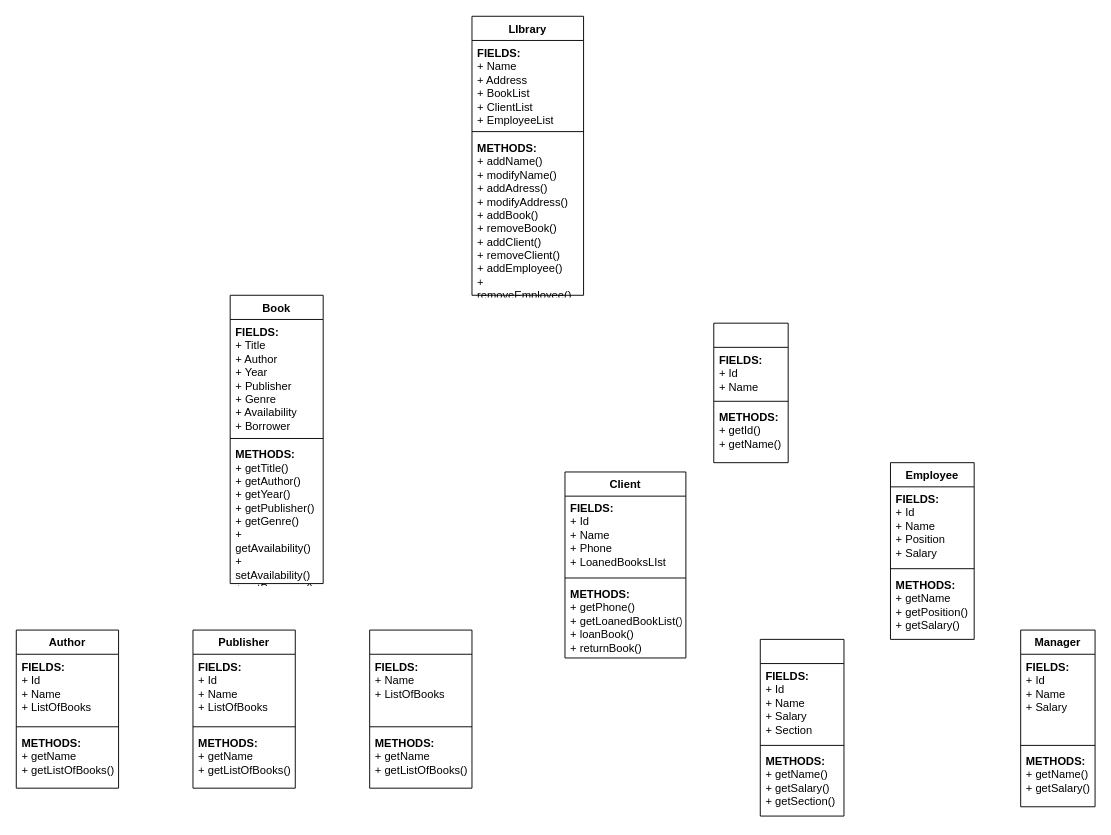
Image size: 1111x835. Some labels were removed from this diagram. The shapes that lost their labels are listed below. From the top down, each one's box as (x1, y1, x2, y2) in pixels, then its label:
(713, 322, 788, 463): Person
(369, 629, 472, 788): Genre
(759, 638, 844, 816): LIbrarian
